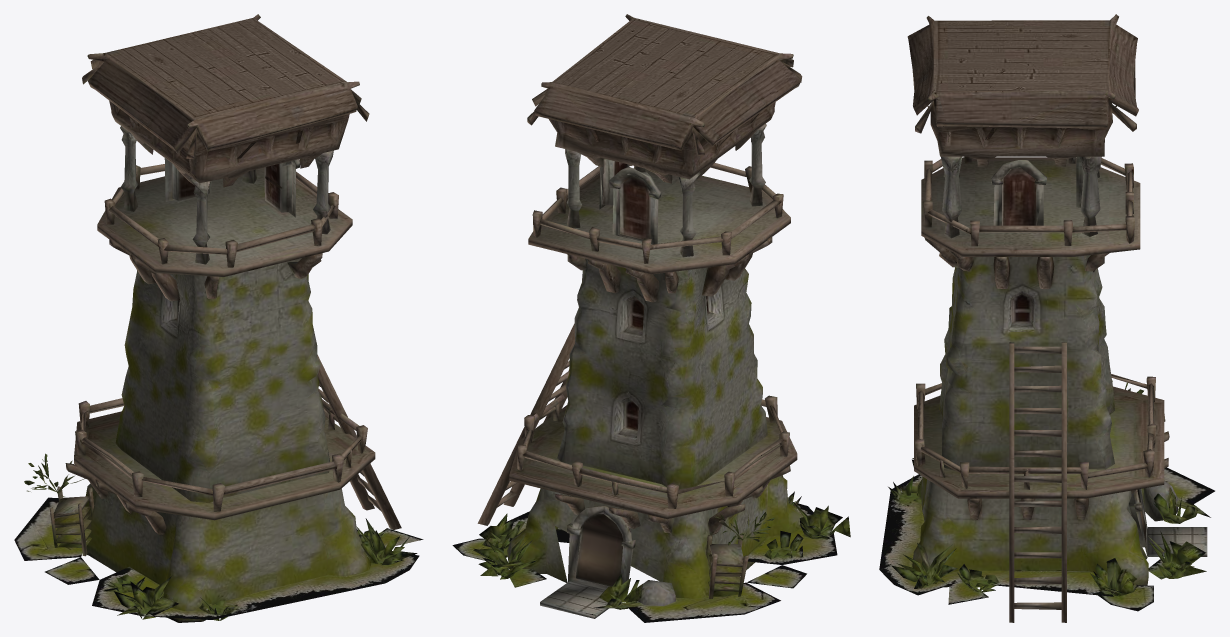
File: barrosan_clanhold.glb
3 renders of one model, left to right at view 1: azimuth 30°, elevation 25°; view 2: azimuth 150°, elevation 25°; view 3: azimuth 270°, elevation 25°, orthographic. The views are drawn at different scales.
Bounding box in the file's own units: 1.75 × 2.5 × 1.57.
1 material, 1 textured.
